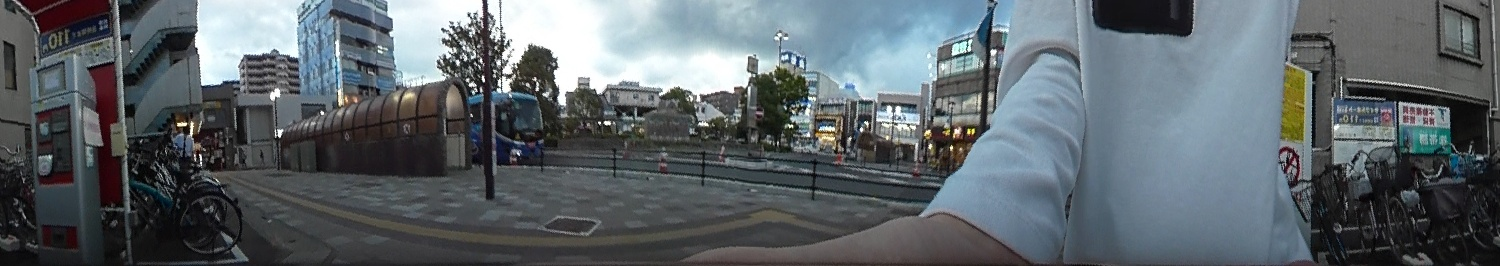difficult_person: (235, 143, 250, 171), (256, 146, 269, 166)
